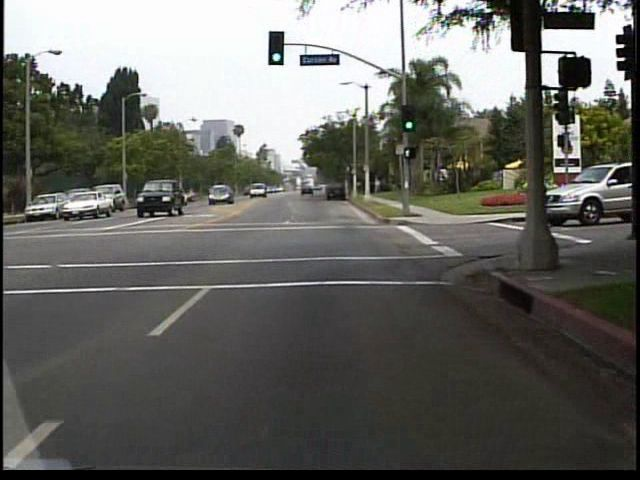person: (366, 175, 375, 198), (374, 174, 382, 194)
